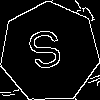S: (24, 27, 68, 80)
